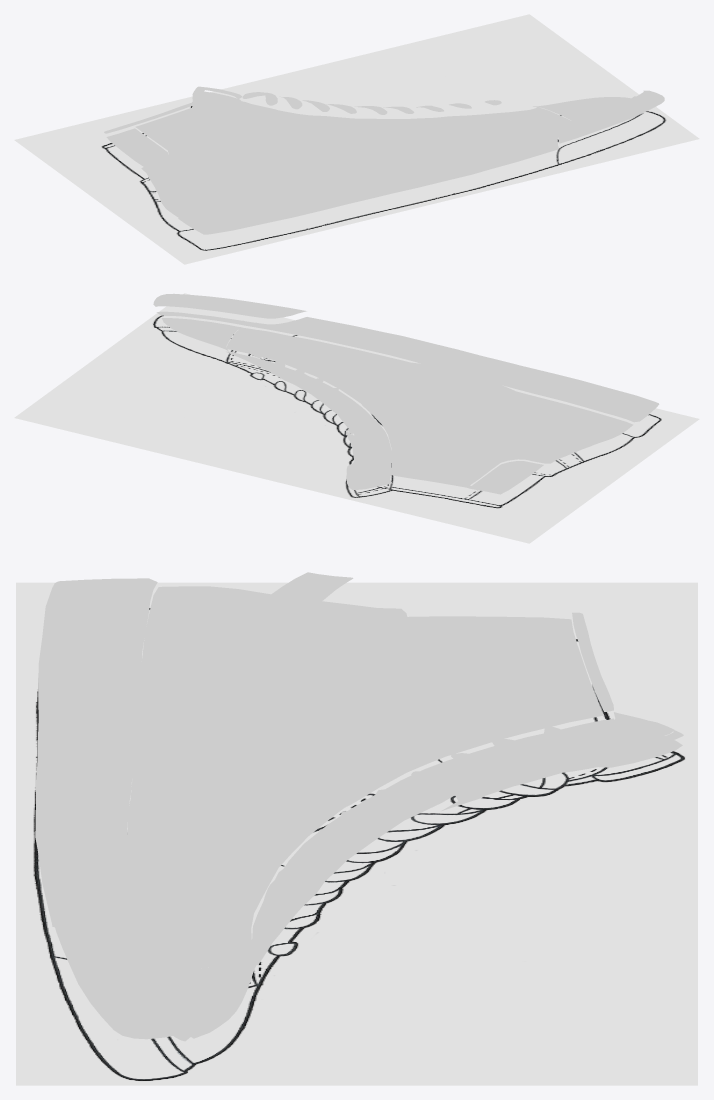
File: NikeBlazerMid.FBX
3 views of the same model, one above another, from view 1: azimuth 30°, elevation 25°; view 2: azimuth 150°, elevation 25°; view 3: azimuth 270°, elevation 25° (orthographic). The views are drawn at different scales.
Visible parts, largest first — view 1: Plane001, Line006, Line002, Line005, Line009, Line004, Line001, Line007, Line021, Line003; view 2: Plane001, Line006, Line002, Line005, Line009, Line004, Line001, Line003, Line007, Line021, Line022; view 3: Plane001, Line006, Line002, Line005, Line009, Line004, Line001, Line003, Line007, Line021, Line022, Line008.
Part boxes in pixels (bbox=[...]): Plane001: bbox=[14, 14, 699, 264]; Line006: bbox=[135, 104, 571, 217]; Line002: bbox=[178, 96, 635, 234]; Line005: bbox=[149, 119, 397, 175]; Line009: bbox=[196, 99, 527, 128]; Line004: bbox=[388, 117, 557, 171]; Line001: bbox=[557, 90, 664, 143]; Line007: bbox=[106, 128, 168, 166]; Line021: bbox=[242, 92, 501, 114]; Line003: bbox=[533, 97, 630, 121]; Plane001: bbox=[14, 293, 699, 543]; Line006: bbox=[226, 327, 633, 485]; Line002: bbox=[156, 311, 659, 422]; Line005: bbox=[368, 362, 583, 442]; Line009: bbox=[226, 351, 391, 476]; Line004: bbox=[248, 330, 410, 366]; Line001: bbox=[153, 293, 306, 318]; Line003: bbox=[161, 318, 242, 351]; Line007: bbox=[468, 461, 543, 494]; Line021: bbox=[251, 351, 375, 449]; Line022: bbox=[345, 429, 392, 489]; Plane001: bbox=[16, 582, 697, 1085]; Line006: bbox=[128, 586, 603, 970]; Line002: bbox=[35, 578, 193, 1041]; Line005: bbox=[167, 572, 374, 791]; Line009: bbox=[252, 718, 616, 964]; Line004: bbox=[128, 780, 212, 954]; Line001: bbox=[52, 915, 185, 1039]; Line003: bbox=[152, 956, 262, 1038]; Line007: bbox=[407, 616, 577, 645]; Line021: bbox=[268, 726, 565, 912]; Line022: bbox=[441, 723, 682, 811]; Line008: bbox=[572, 612, 613, 711].
Size of the model in its own units: 255 by 12.38 by 146.
